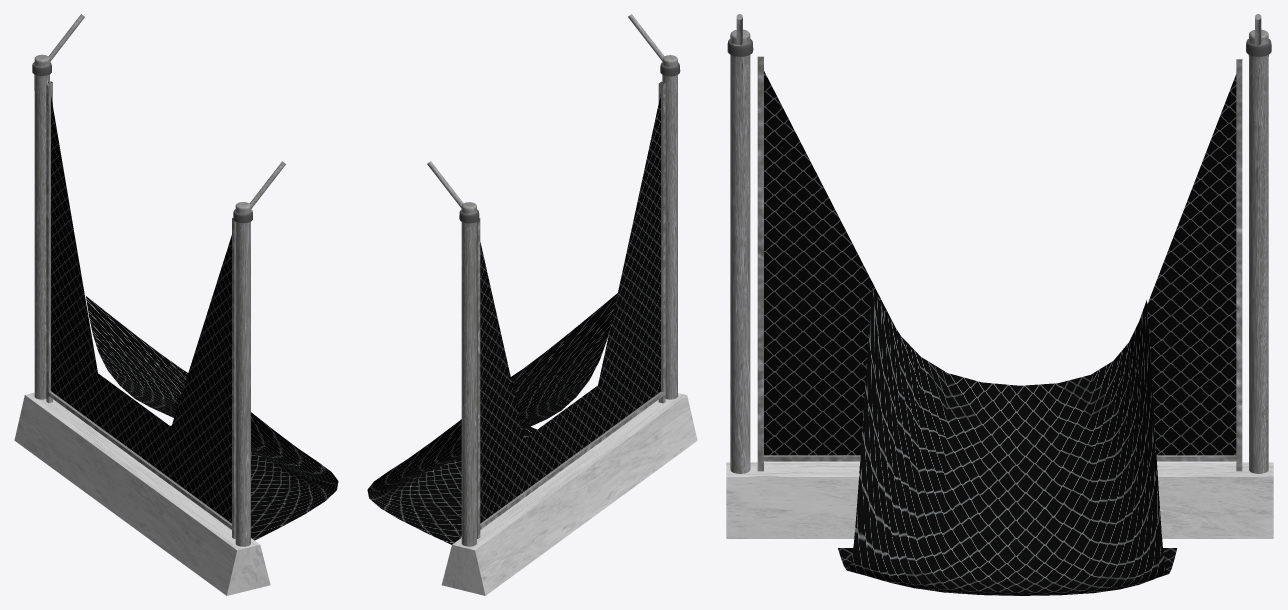
Rendered from Ultra brocken barrier.fbx.
The picture shows the model from 3 angles, left to right: view 1: azimuth 30°, elevation 25°; view 2: azimuth 150°, elevation 25°; view 3: azimuth 270°, elevation 25°; orthographic projection. The views are drawn at different scales.
Visible parts, largest first — view 1: polySurface1, pCube1, polySurface2, pCylinder1, pCylinder4, pCube3; view 2: polySurface1, pCube1, polySurface2, pCylinder4, pCylinder1, pCube3; view 3: polySurface2, polySurface1, pCube1, pCylinder1, pCylinder4, pCube3.
Boxes of the visible parts, <box> form: polySurface1: <box>48,82,231,523</box>; pCube1: <box>14,392,270,595</box>; polySurface2: <box>86,296,338,540</box>; pCylinder1: <box>233,202,252,546</box>; pCylinder4: <box>32,54,51,399</box>; pCube3: <box>46,81,235,538</box>; polySurface1: <box>480,83,663,523</box>; pCube1: <box>441,393,697,595</box>; polySurface2: <box>367,293,617,544</box>; pCylinder4: <box>459,202,479,546</box>; pCylinder1: <box>660,55,680,399</box>; pCube3: <box>477,81,665,538</box>; polySurface2: <box>838,287,1177,595</box>; polySurface1: <box>764,71,1236,455</box>; pCube1: <box>726,462,1273,538</box>; pCylinder1: <box>727,29,753,473</box>; pCylinder4: <box>1246,29,1271,473</box>; pCube3: <box>757,56,1242,471</box>.
Size of the model in its own units: 11.21 by 27.75 by 25.69.
